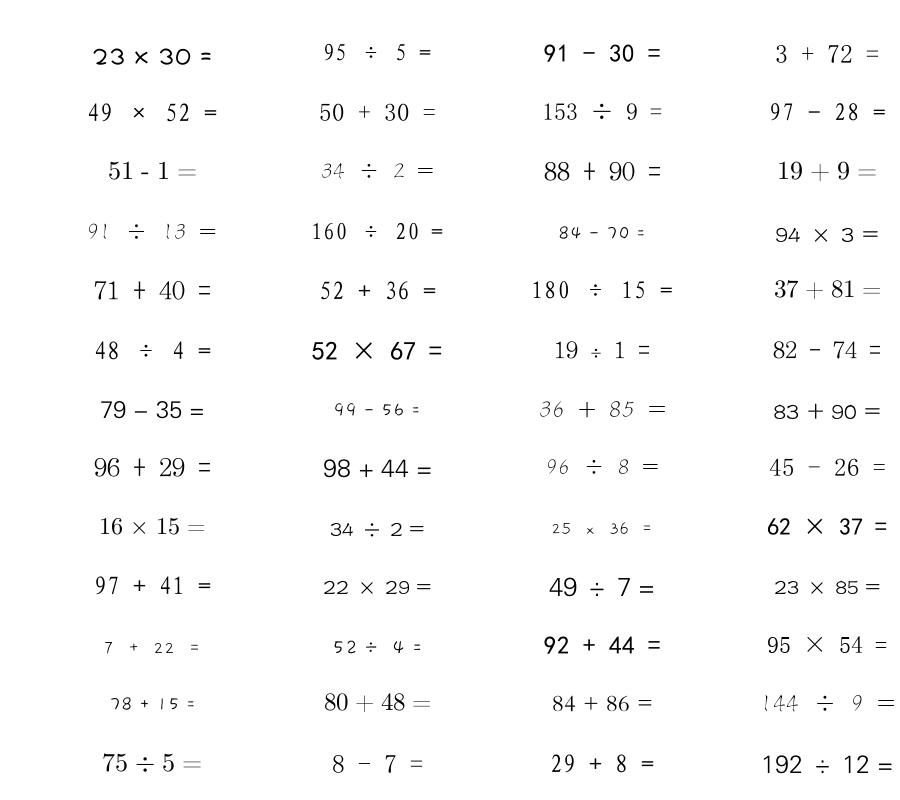MQ: (531, 281, 673, 299), (761, 755, 893, 774), (87, 103, 217, 122), (312, 341, 442, 360), (760, 694, 895, 712), (311, 222, 443, 240), (544, 161, 661, 181), (94, 280, 211, 300), (94, 457, 211, 477), (544, 44, 661, 63), (319, 281, 436, 300), (94, 341, 211, 360), (94, 576, 211, 595), (87, 223, 217, 240), (539, 401, 666, 418), (774, 280, 881, 300), (324, 693, 431, 713), (549, 577, 655, 597), (319, 103, 436, 121), (769, 103, 886, 121), (769, 458, 886, 476), (544, 636, 661, 654), (777, 161, 877, 182), (323, 459, 432, 478), (92, 48, 212, 65), (542, 103, 662, 120), (767, 518, 887, 535), (767, 636, 887, 653), (550, 754, 654, 773), (323, 43, 431, 61), (773, 341, 881, 359), (99, 517, 206, 535), (102, 753, 202, 772), (100, 401, 205, 419), (775, 45, 879, 63), (773, 403, 881, 420), (321, 163, 434, 179), (554, 341, 650, 359), (552, 695, 653, 712), (546, 459, 659, 474), (108, 161, 197, 180), (775, 227, 879, 243), (332, 755, 423, 773), (323, 580, 431, 594), (774, 580, 880, 594), (330, 522, 424, 537), (332, 640, 422, 655), (551, 522, 653, 535), (103, 642, 201, 655), (558, 226, 646, 240), (333, 403, 421, 417), (109, 697, 196, 711)
